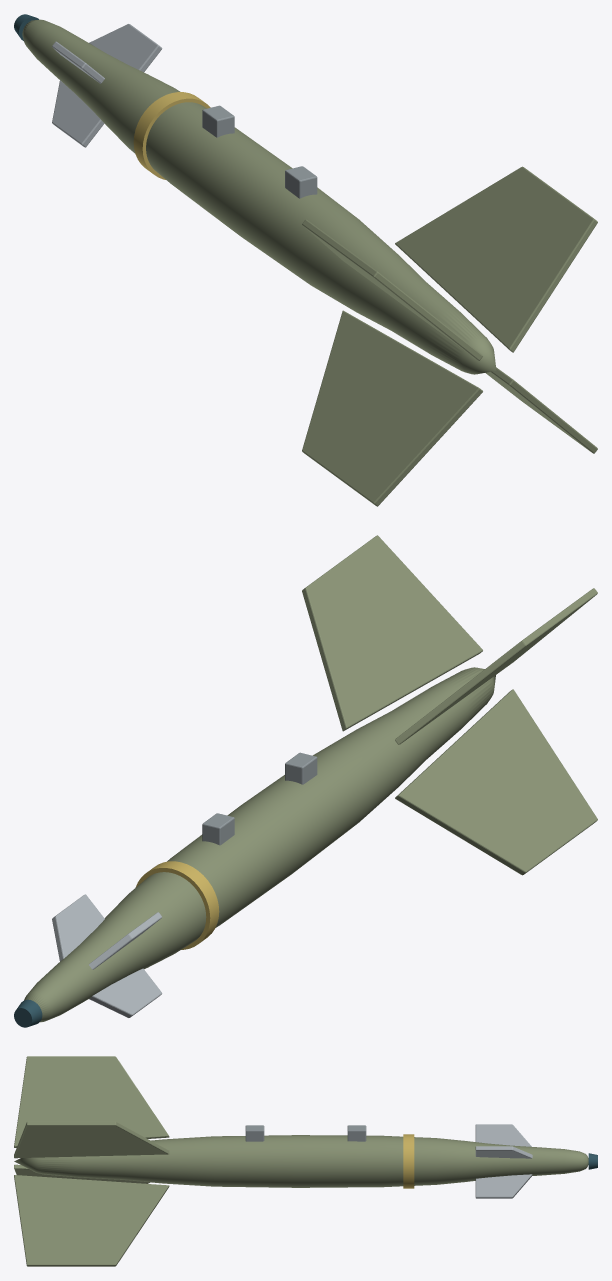
The model's file is gbu12.glb.
The picture shows the model from 3 angles, top to bottom: view 1: azimuth 30°, elevation 25°; view 2: azimuth 150°, elevation 25°; view 3: azimuth 270°, elevation 25°; orthographic projection. The views are drawn at different scales.
Visible parts, largest first — view 1: static.Store olive, static.Airframe grey, static.Dull metal, static.Store band ochre; view 2: static.Store olive, static.Airframe grey, static.Dull metal, static.Store band ochre; view 3: static.Store olive, static.Airframe grey, static.Dull metal, static.Store band ochre.
Boxes of the visible parts, x1,y1,x2,y2 form: static.Store olive: (22,19,597,506); static.Airframe grey: (52,24,162,147); static.Dull metal: (202,105,317,198); static.Store band ochre: (133,92,210,179); static.Store olive: (24,535,597,1022); static.Airframe grey: (52,894,162,1017); static.Dull metal: (202,752,317,845); static.Store band ochre: (135,861,219,949); static.Store olive: (14,1056,588,1266); static.Airframe grey: (475,1124,532,1198); static.Dull metal: (245,1125,366,1141); static.Store band ochre: (403,1134,414,1188).
Size of the model in its own units: 0.8622 by 0.8622 by 3.15.
